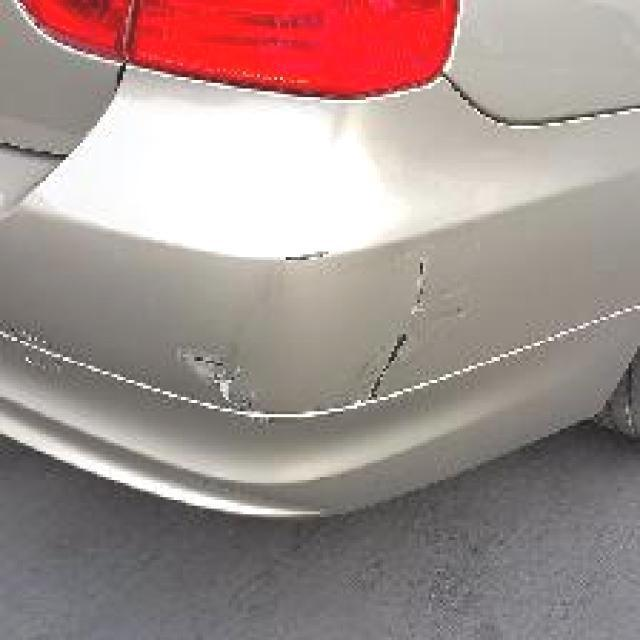minor: (264, 245, 348, 272)
moderate: (348, 241, 449, 402), (175, 342, 264, 412)
